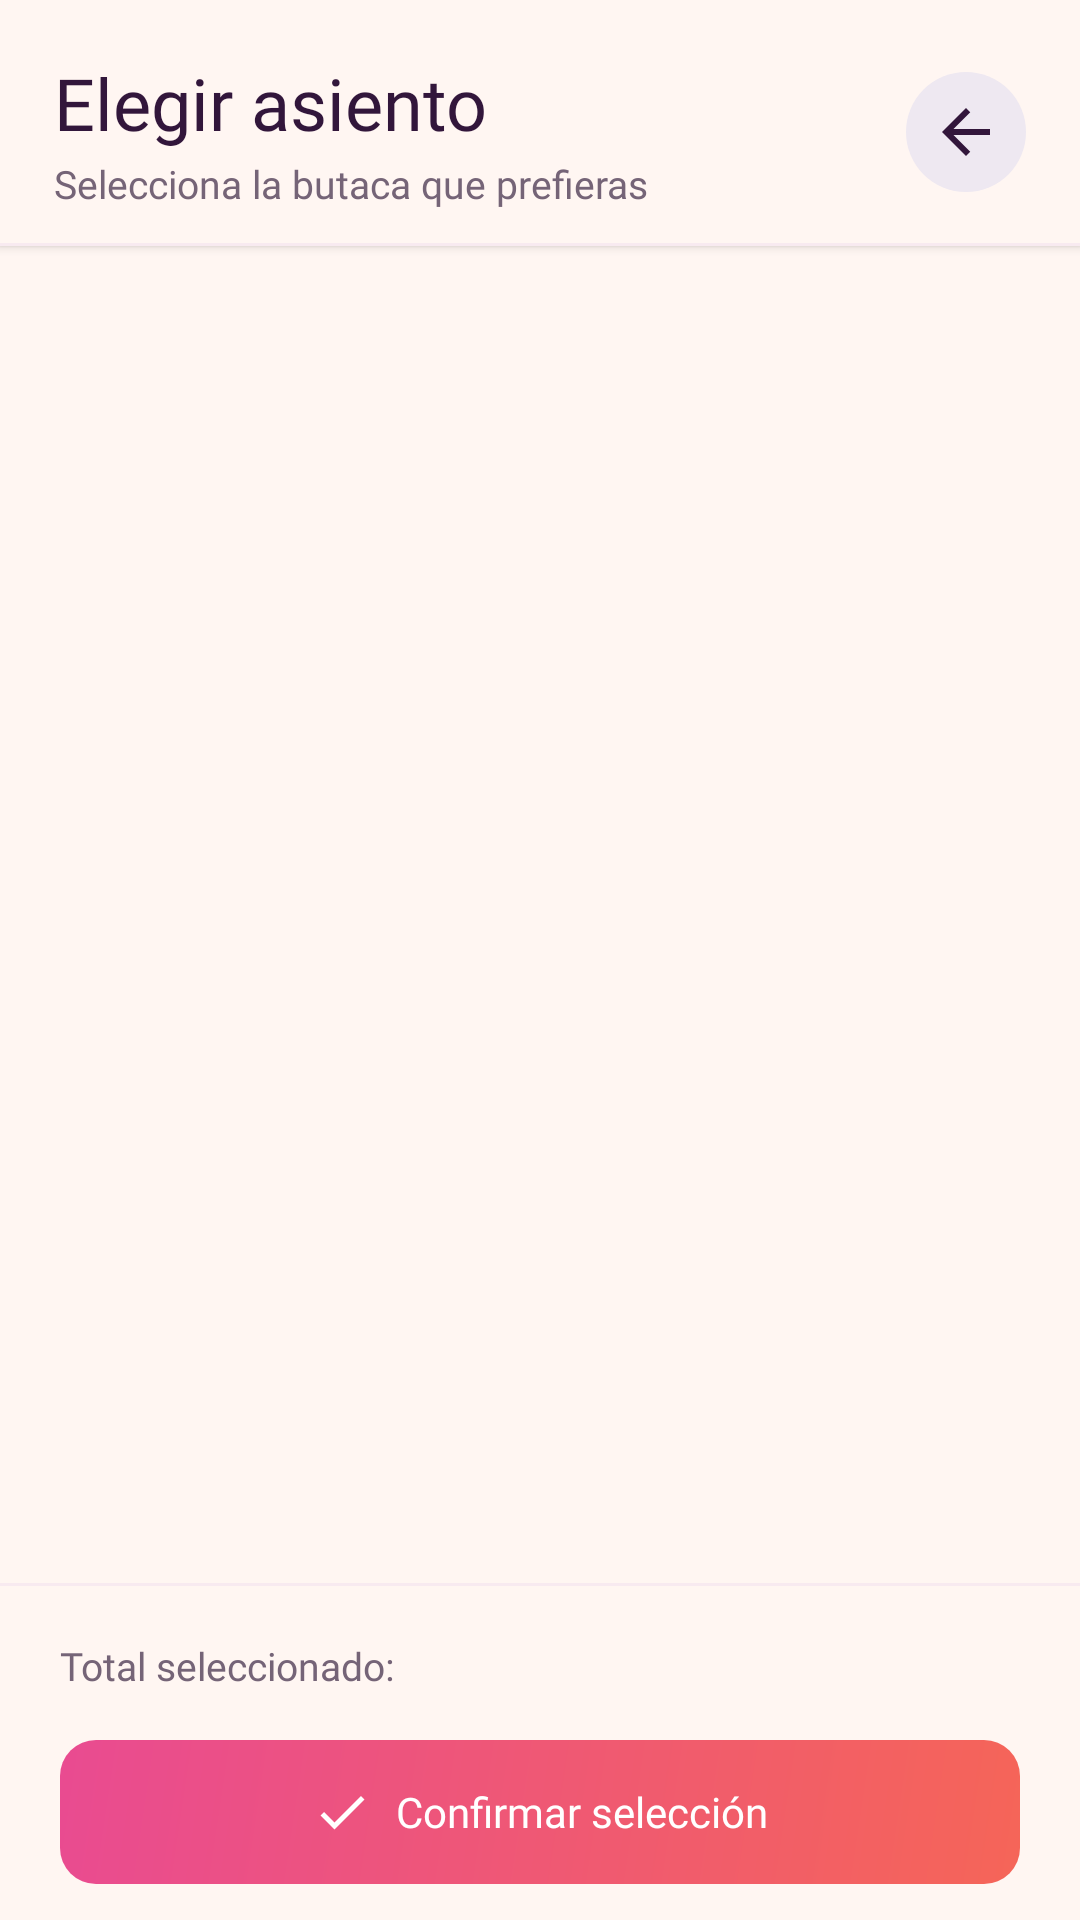

Named icons in this screenshot (1080 x 1920) and their bounding boxes, (x1, y1, x2, y2):
Volver: (906, 72, 1026, 192)
